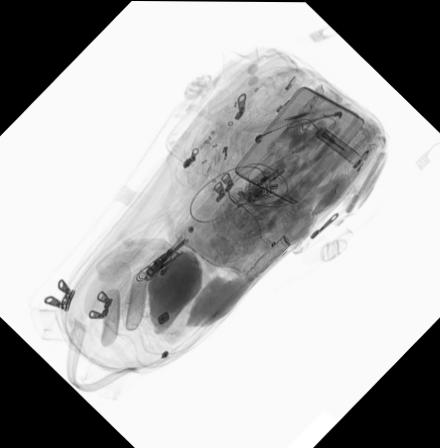Lighter: (326, 141, 376, 204)
